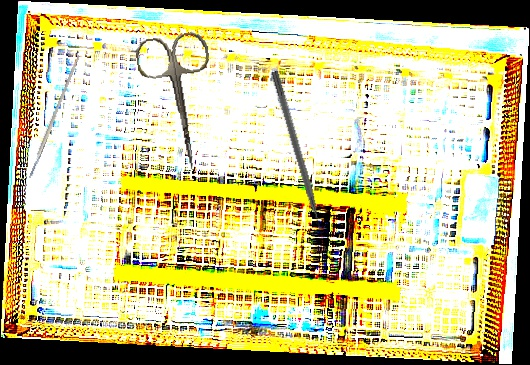Iris Scissors: (133, 30, 227, 176)
Pusher: (268, 70, 327, 240)
Scalpel Handle: (26, 54, 82, 179)
